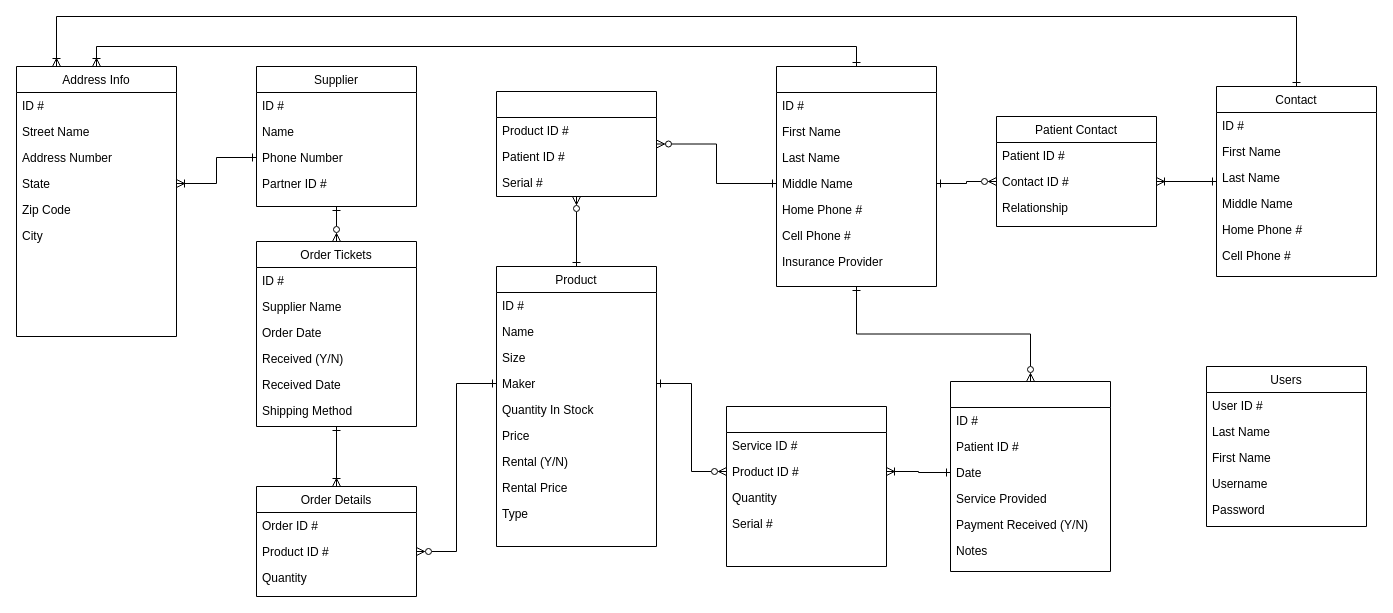
Some shapes in this 1393 by 613 pixel diagram are drawn without their labels. Here are the shapes that lost their labels. From the top down, the box of each, then its label:
(496, 90, 656, 196): Patient Product
(776, 66, 936, 286): Patient
(726, 406, 886, 566): Service Details
(950, 380, 1110, 572): Service History
